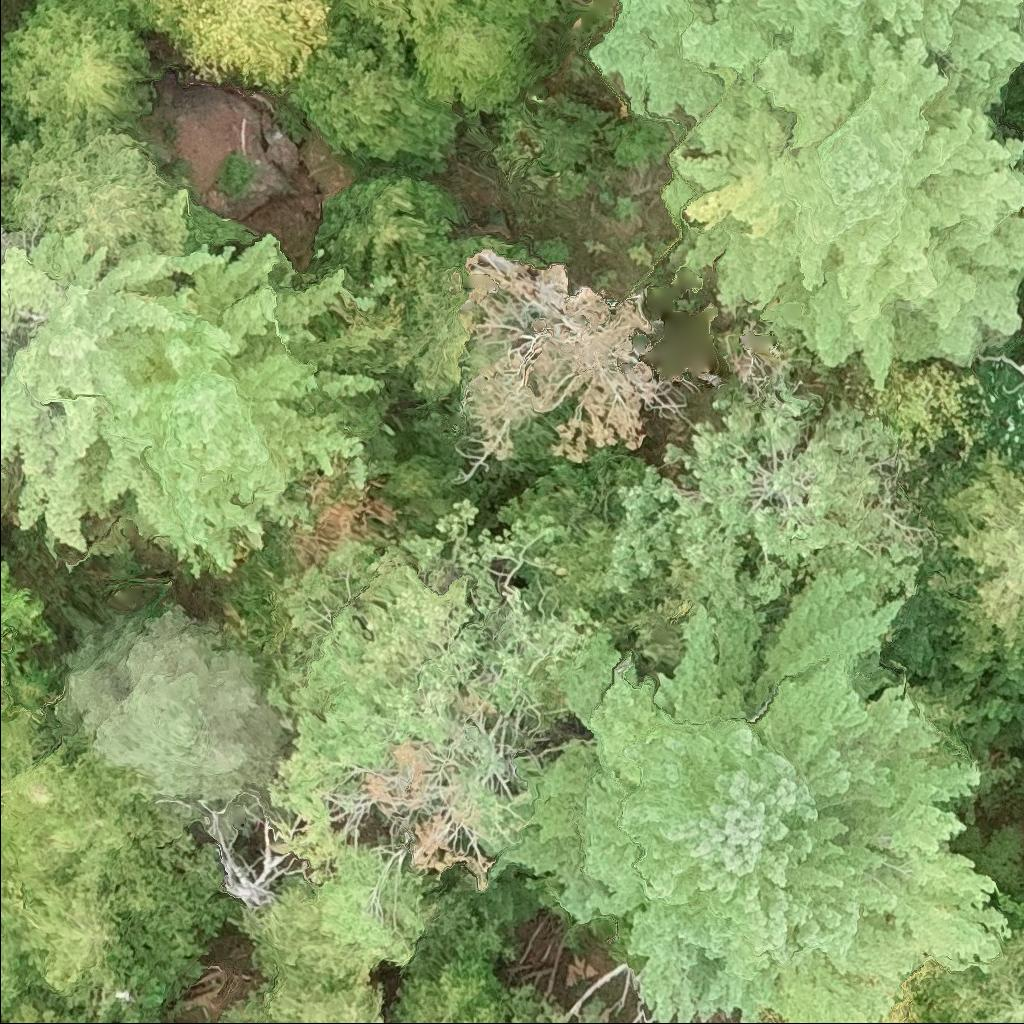crown: (488, 540, 1015, 1023), (265, 498, 618, 891), (662, 34, 1023, 395), (96, 228, 386, 575), (601, 394, 906, 613), (588, 0, 1023, 148), (0, 229, 184, 553), (67, 608, 291, 808), (464, 248, 656, 464), (284, 3, 469, 171), (0, 121, 195, 258), (919, 447, 1023, 675), (0, 0, 156, 139), (143, 0, 334, 97), (314, 166, 465, 279), (17, 876, 147, 1002), (405, 4, 548, 112), (231, 890, 368, 995), (950, 926, 1023, 1023), (219, 982, 375, 1023), (364, 0, 490, 34), (995, 665, 1023, 756), (0, 937, 32, 1014), (0, 622, 18, 710), (487, 0, 562, 21), (0, 1005, 69, 1023), (327, 0, 365, 30), (0, 462, 17, 519), (997, 899, 1023, 928), (124, 0, 150, 20), (0, 770, 10, 811), (1017, 776, 1023, 795), (1021, 754, 1023, 774), (1021, 283, 1023, 289)
